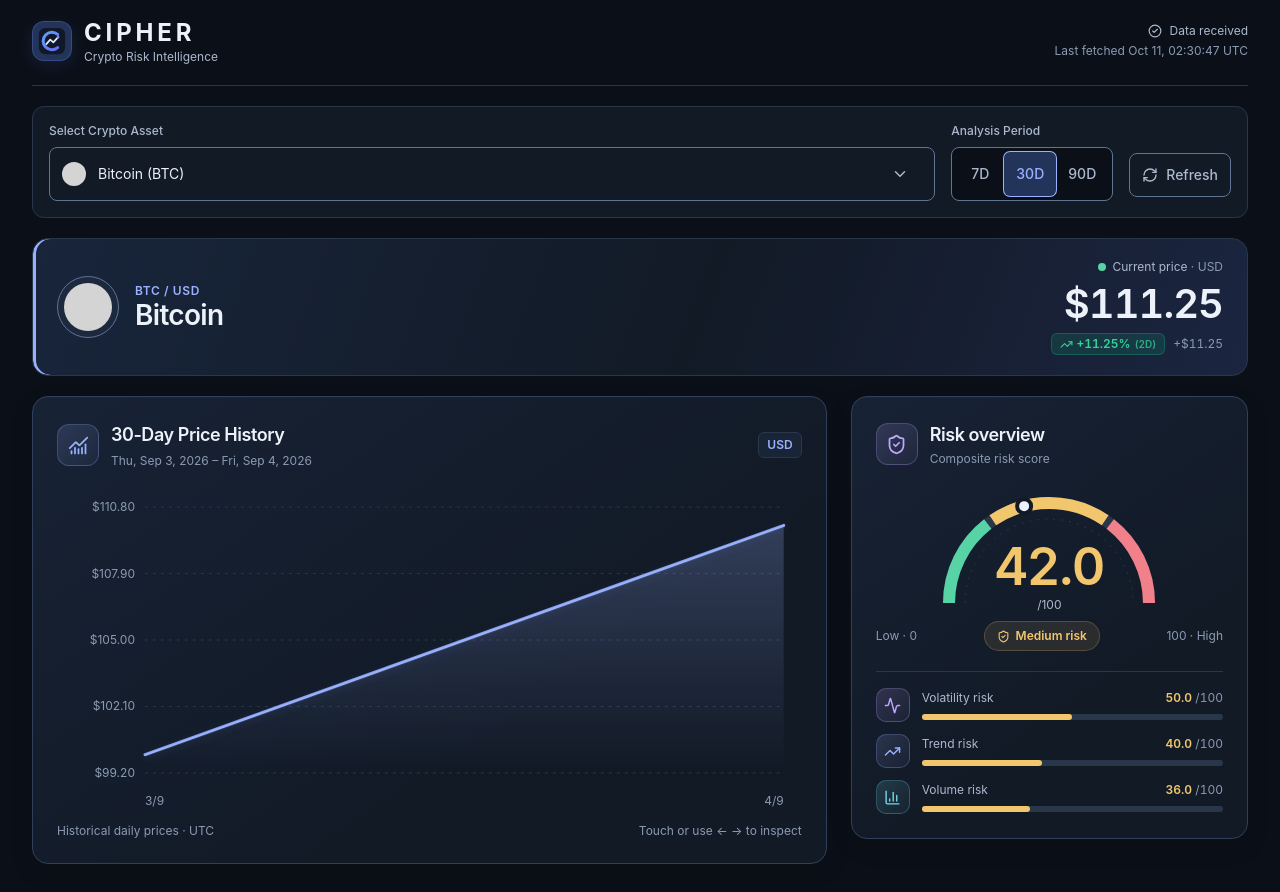
Test case: Dashboard loading and recovery › shows skeletons for a different period and ignores an abandoned request
Step 1. Click the button named "7 Days" → (980,174), box [956,152,1004,196]
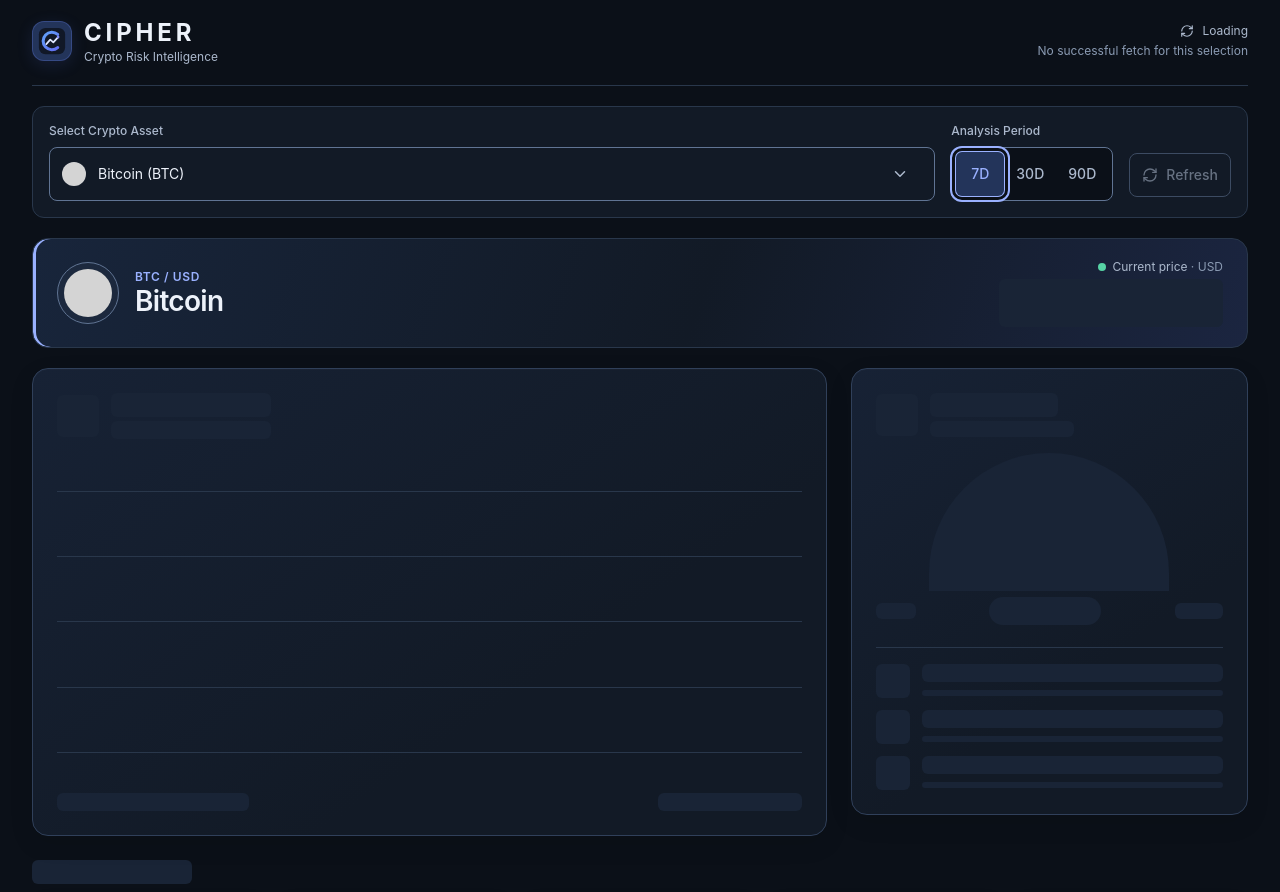
Step 2. Click the button named "90 Days" → (1082,174), box [1056,152,1108,196]
(page scrolled)
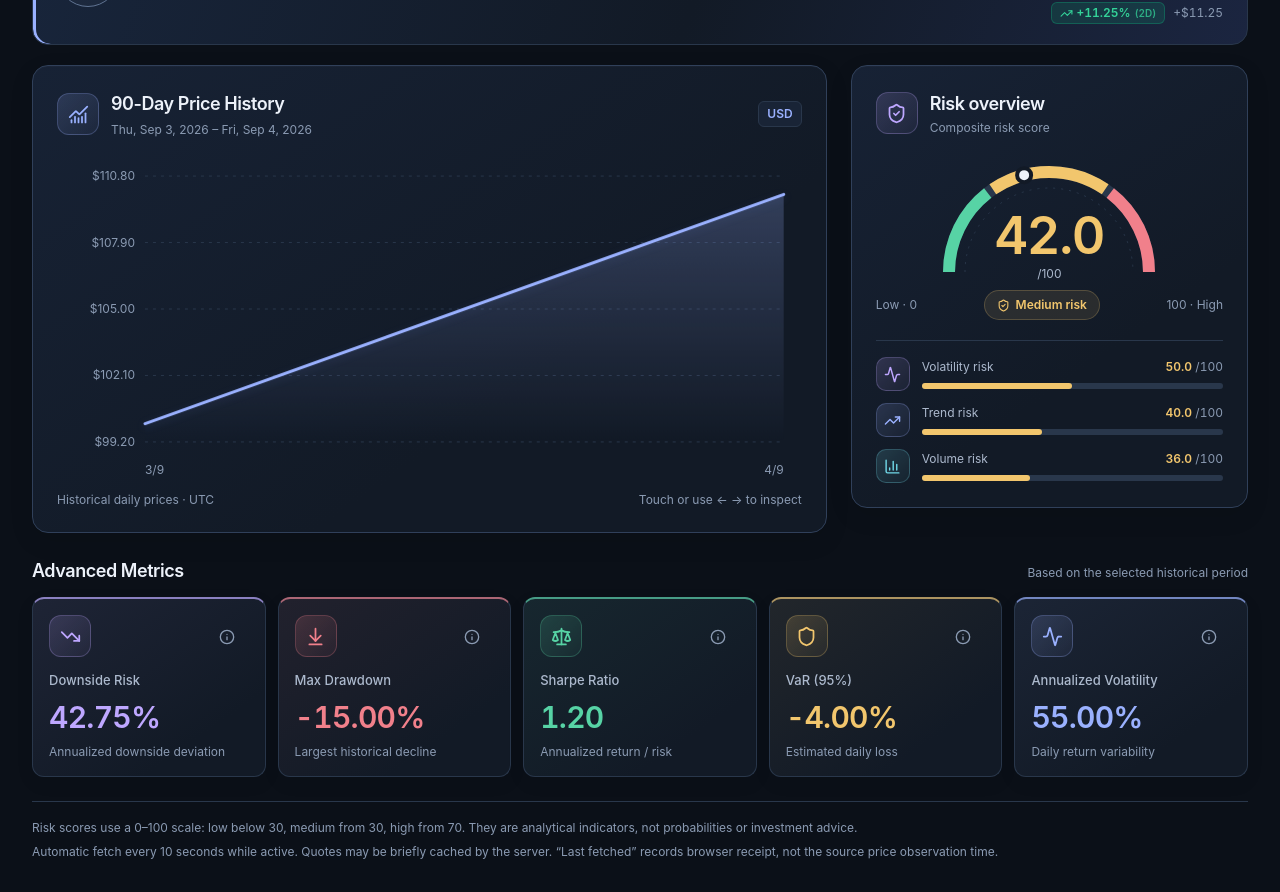
Expected: the heading "90-Day Price History" is shown, [111,93,284,114]
Expected: the text "42.75%" is shown, [49,698,160,734]
